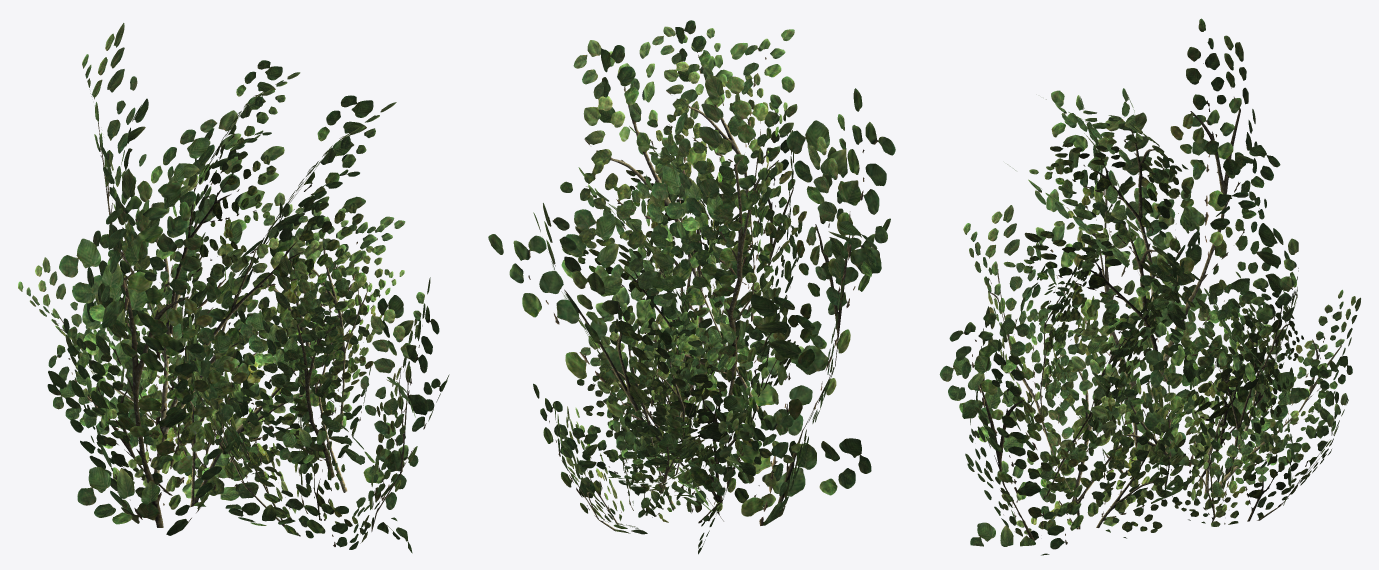
File: SM_Bush.FBX
3 views of the same model, side by side, from view 1: azimuth 30°, elevation 25°; view 2: azimuth 150°, elevation 25°; view 3: azimuth 270°, elevation 25° (orthographic). The views are drawn at different scales.
Parts seen in each view (by area): view 1: SM_Bush; view 2: SM_Bush; view 3: SM_Bush.
Part boxes in pixels (<box>): SM_Bush: <box>18,23,449,553</box>; SM_Bush: <box>488,20,895,554</box>; SM_Bush: <box>939,18,1360,555</box>.
Size of the model in its own units: 113 by 122 by 138.
